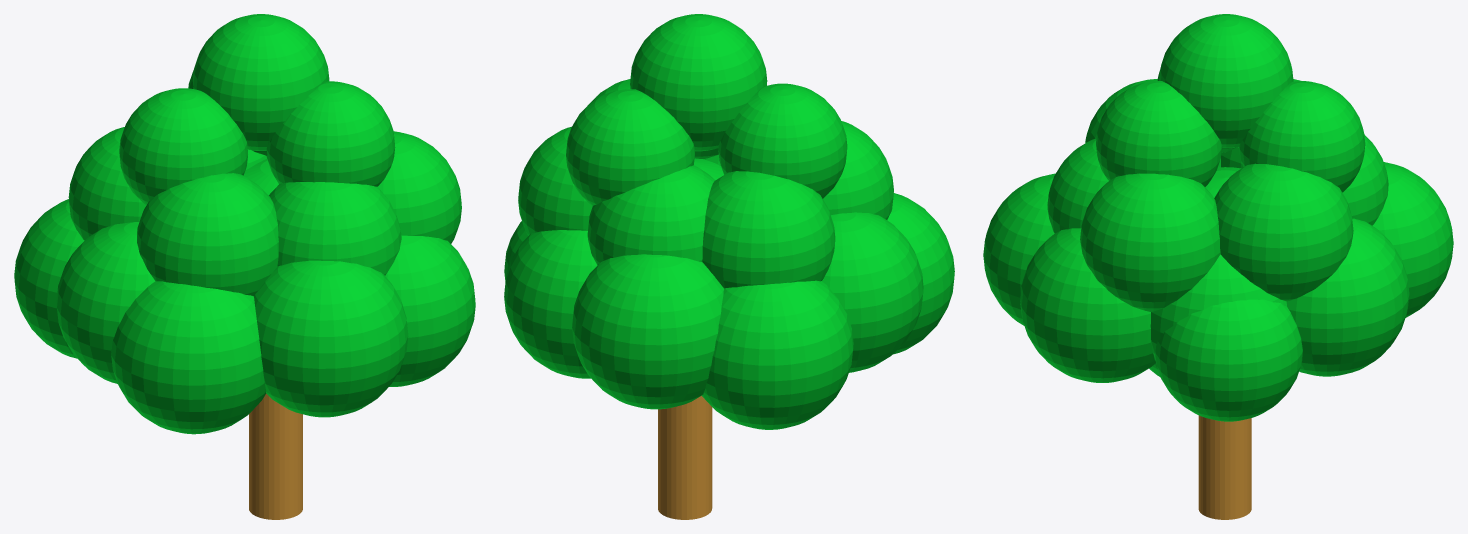
Rendered from mariotree.fbx.
3 views of the same model, side by side, from view 1: azimuth 30°, elevation 25°; view 2: azimuth 150°, elevation 25°; view 3: azimuth 270°, elevation 25° (orthographic). The views are drawn at different scales.
Visible parts, largest first — view 1: Cylinder; view 2: Cylinder; view 3: Cylinder.
Part boxes in pixels (bbox=[...]): Cylinder: bbox=[14, 14, 475, 519]; Cylinder: bbox=[504, 14, 954, 519]; Cylinder: bbox=[983, 14, 1453, 519].
Size of the model in its own units: 2.74 by 3.33 by 2.95.
